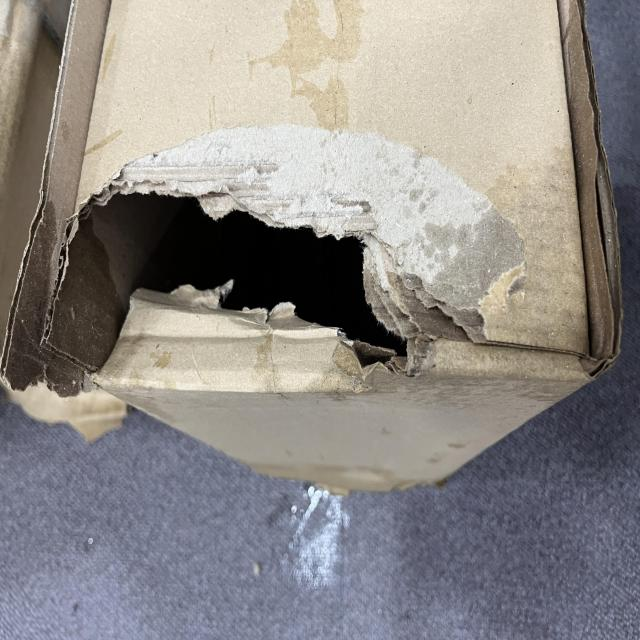damaged: (170, 19, 346, 552)
